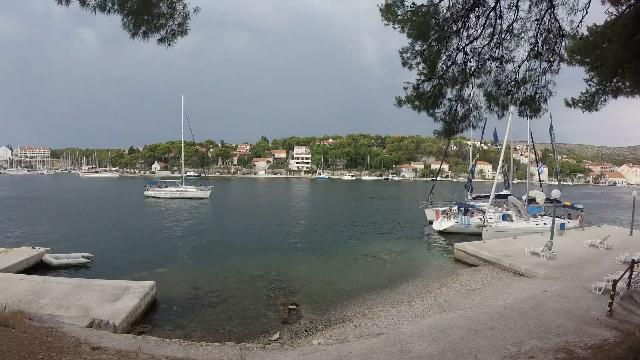Sailboat: (141, 173, 219, 207)
